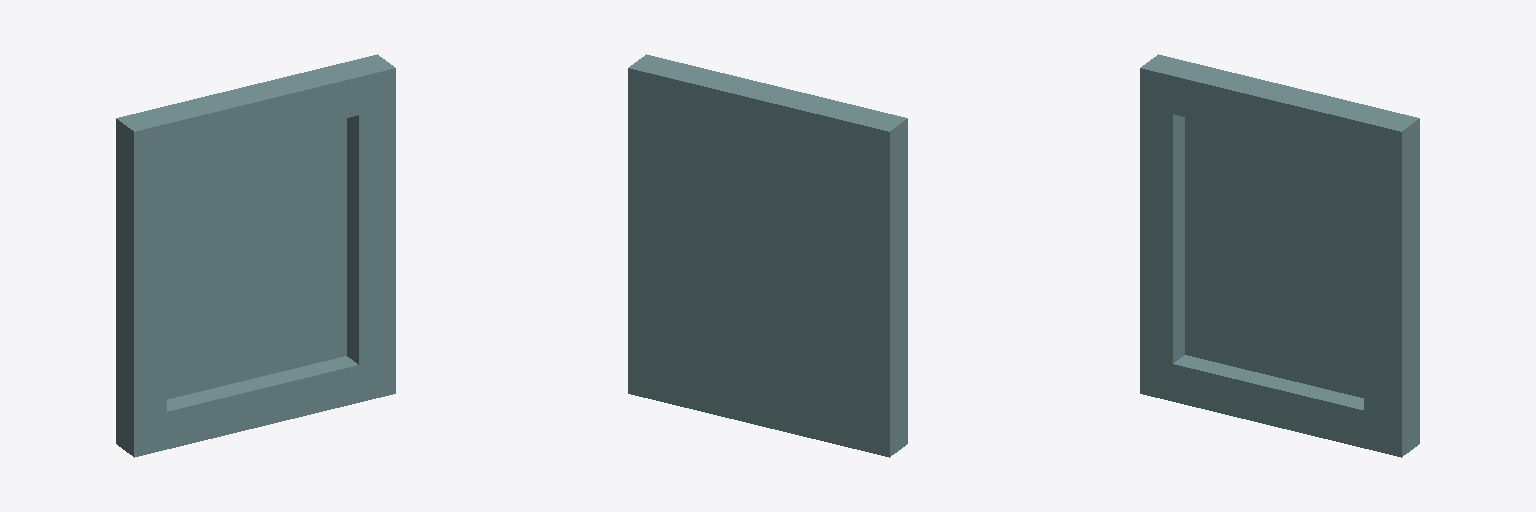
Rendered from PictureFrame.obj.
3 renders of one model, left to right at view 1: azimuth 30°, elevation 25°; view 2: azimuth 150°, elevation 25°; view 3: azimuth 330°, elevation 25°, orthographic.
Visible parts, largest first — view 1: Cube_Cube.002; view 2: Cube_Cube.002; view 3: Cube_Cube.002.
Part boxes in pixels (x1,y1,x2,y2): Cube_Cube.002: (116,54,395,457); Cube_Cube.002: (628,54,907,457); Cube_Cube.002: (1140,54,1419,457).
Size of the model in its own units: 1.68 by 2 by 0.2059.